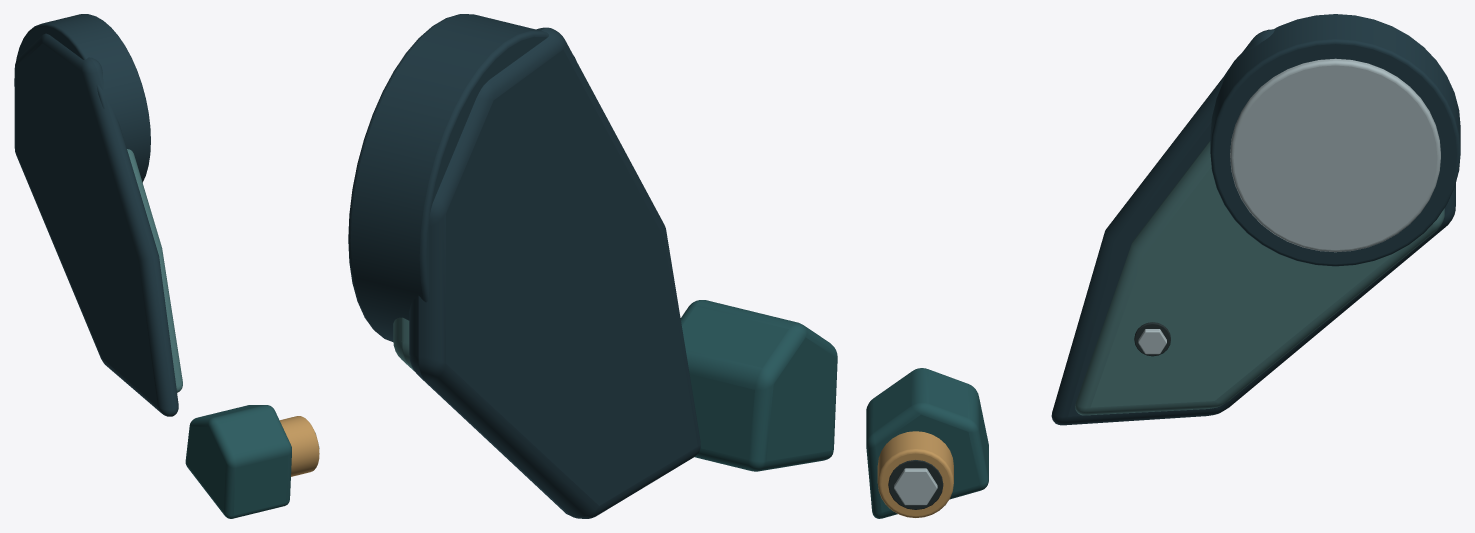
Rendered from SM_Mk2_GuardMount_R.fbx.
3 views of the same model, side by side, from view 1: azimuth 30°, elevation 25°; view 2: azimuth 150°, elevation 25°; view 3: azimuth 270°, elevation 25° (orthographic). The views are drawn at different scales.
Visible parts, largest first — view 1: SM_Mk2_GuardMount_R; view 2: SM_Mk2_GuardMount_R; view 3: SM_Mk2_GuardMount_R.
Boxes of the visible parts, x1=… form: SM_Mk2_GuardMount_R: x1=14, y1=14, x2=319, y2=518; SM_Mk2_GuardMount_R: x1=348, y1=14, x2=837, y2=518; SM_Mk2_GuardMount_R: x1=866, y1=14, x2=1460, y2=518.
Size of the model in its own units: 12.5 by 48.44 by 42.6.
